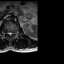CCS_normal: (9, 29, 11, 38)
LFS_stenosis: (12, 30, 14, 36)
LLS_stenosis: (11, 30, 12, 36)
RFS_stenosis: (5, 30, 7, 36)
RLS_normal: (7, 30, 9, 36)
